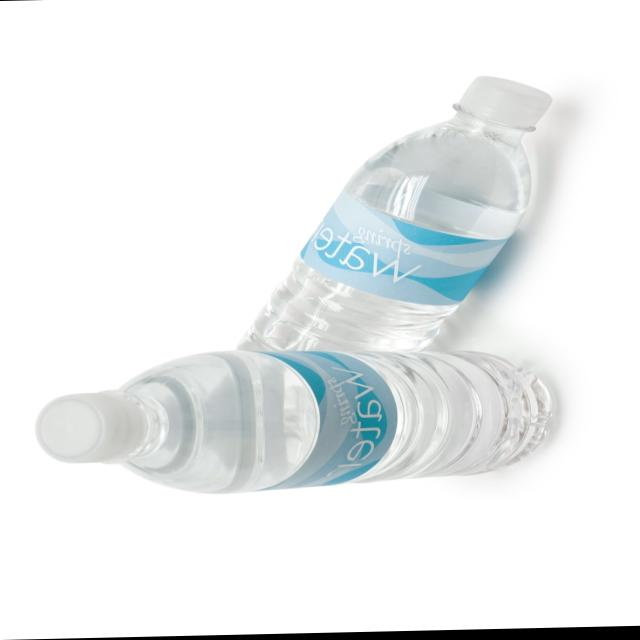bottle: (235, 70, 555, 397), (34, 343, 544, 488)
